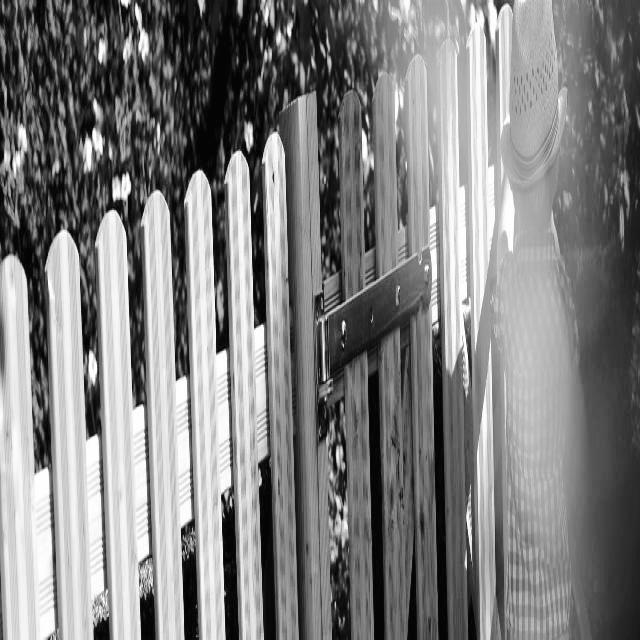fences: (0, 104, 491, 640)
